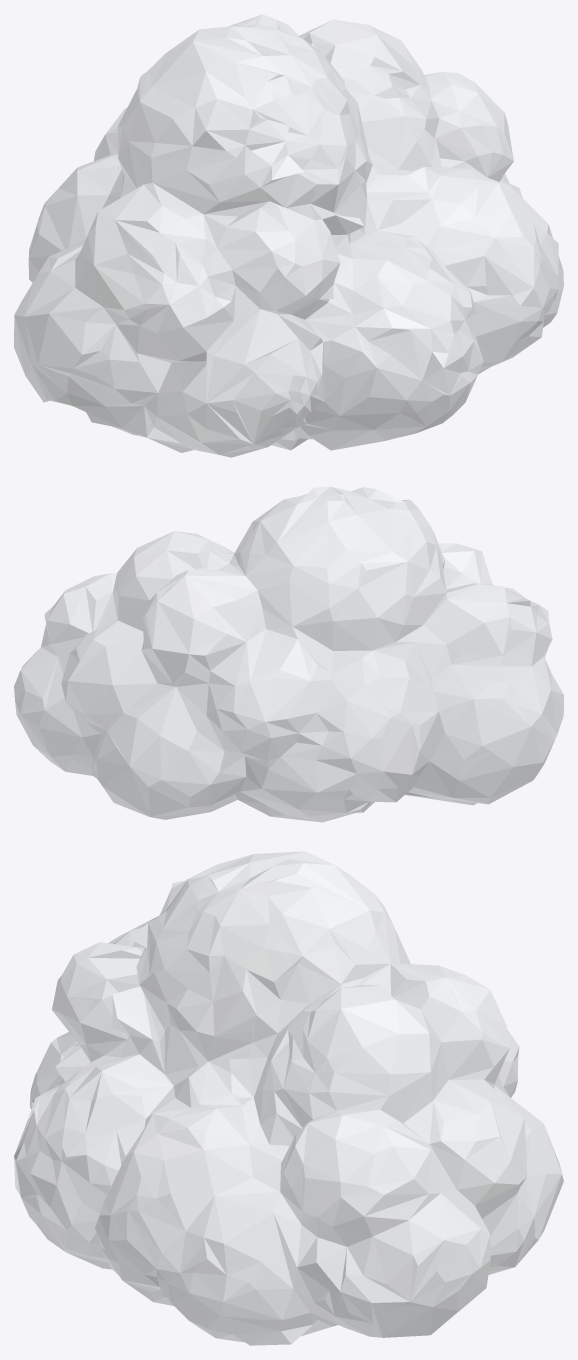
Rendered from cloud_c.glb.
The picture shows the model from 3 angles, top to bottom: view 1: azimuth 30°, elevation 25°; view 2: azimuth 150°, elevation 25°; view 3: azimuth 270°, elevation 25°; orthographic projection. The views are drawn at different scales.
Visible parts, largest first — view 1: cloud_c; view 2: cloud_c; view 3: cloud_c.
Part boxes in pixels (x1,y1,x2,y2): cloud_c: [14, 14, 563, 457]; cloud_c: [14, 486, 563, 822]; cloud_c: [14, 851, 563, 1345].
Size of the model in its own units: 0.9727 by 0.6301 by 0.8194.
Materials: 1 (1 with a texture image).
